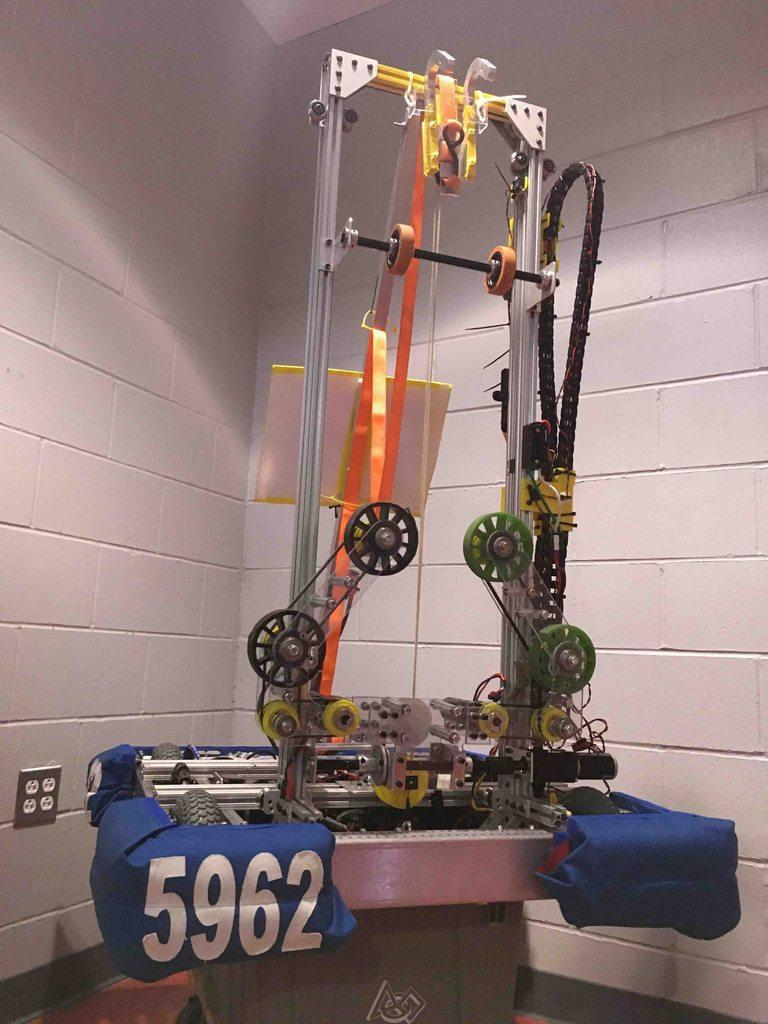robot: (86, 47, 742, 984)
